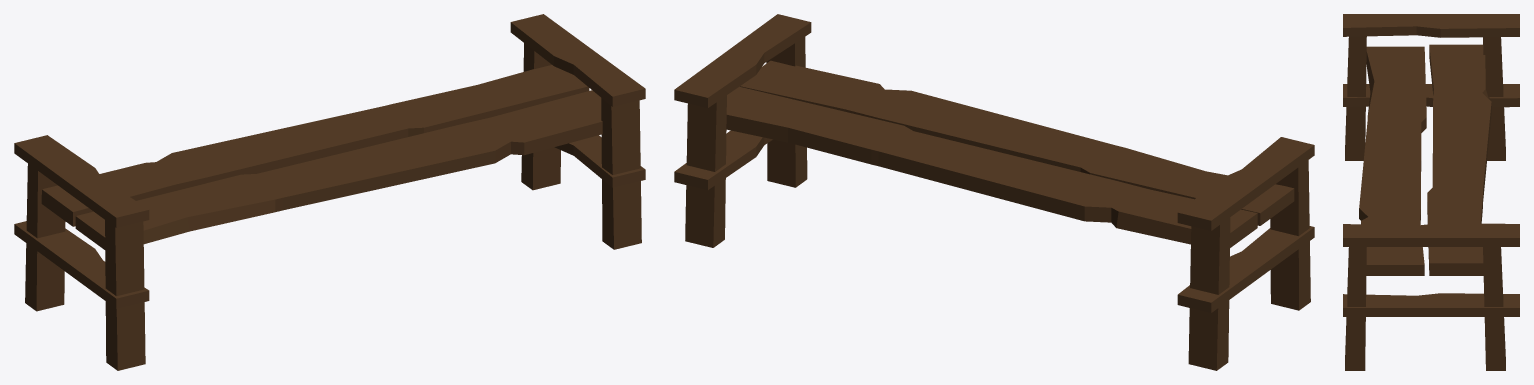
Rendered from bench_2.glb.
3 renders of one model, left to right at view 1: azimuth 30°, elevation 25°; view 2: azimuth 150°, elevation 25°; view 3: azimuth 270°, elevation 25°, orthographic. The views are drawn at different scales.
Visible parts, largest first — view 1: merged; view 2: merged; view 3: merged.
Boxes of the visible parts, left/top/right/bottom form: merged: left=14, top=14, right=645, bottom=370; merged: left=674, top=14, right=1314, bottom=370; merged: left=1343, top=14, right=1519, bottom=370.
Bounding box in the file's own units: 1.6 × 0.4456 × 0.5326.
